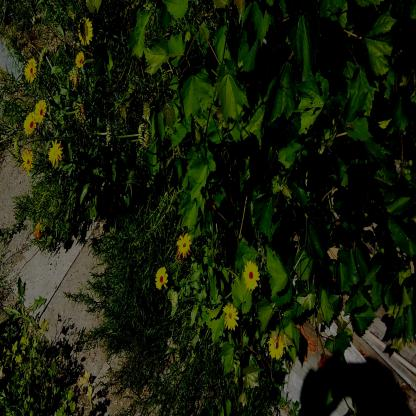marigold: (221, 300, 240, 334), (242, 258, 260, 292), (268, 328, 285, 362), (47, 136, 64, 167), (177, 231, 193, 258), (78, 18, 93, 46), (23, 110, 37, 136), (24, 57, 37, 85), (154, 266, 168, 291), (21, 148, 34, 174), (34, 98, 46, 122), (75, 50, 85, 69)
